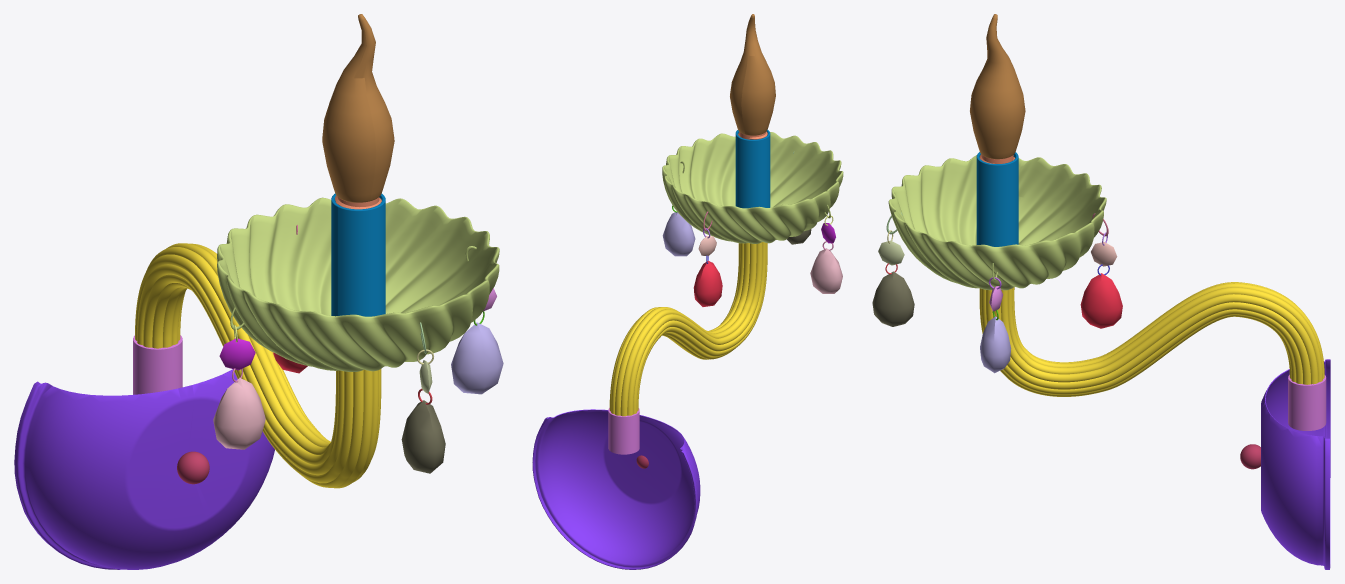
3 renders of one model, left to right at view 1: azimuth 30°, elevation 25°; view 2: azimuth 150°, elevation 25°; view 3: azimuth 270°, elevation 25°, orthographic. The views are drawn at different scales.
Visible parts, largest first — view 1: split_parent_28, split_parent_8, split_parent_2, split_parent_0, split_parent_13, Object_10.001, Object_10.003, Object_10, Object_7, Object_10.034, Object_10.023; view 2: split_parent_28, split_parent_8, split_parent_2, split_parent_0, split_parent_13, Object_7, Object_10.003, Object_10.001, Object_10.002; view 3: split_parent_8, split_parent_2, split_parent_28, split_parent_0, split_parent_13, Object_7, Object_10, Object_10.002, Object_10.001.
Part boxes in pixels (x1,y1,x2,y2): split_parent_28: (14,369,274,569); split_parent_8: (217,197,499,371); split_parent_2: (135,243,381,488); split_parent_0: (322,14,394,202); split_parent_13: (331,193,385,316); Object_10.001: (451,322,503,394); Object_10.003: (213,378,265,449); Object_10: (401,400,445,473); Object_7: (133,335,182,394); Object_10.034: (177,451,209,484); Object_10.023: (219,338,255,370); split_parent_28: (532,409,700,569); split_parent_8: (662,132,843,243); split_parent_2: (609,242,767,416); split_parent_0: (730,14,775,135); split_parent_13: (735,129,770,208); Object_7: (608,408,639,454); Object_10.003: (810,248,842,293); Object_10.001: (662,212,695,256); Object_10.002: (693,260,722,306); split_parent_8: (888,155,1106,290); split_parent_2: (979,282,1324,396); split_parent_28: (1261,359,1330,569); split_parent_0: (970,14,1025,159); split_parent_13: (976,152,1018,246); Object_7: (1288,375,1326,430); Object_10: (872,271,914,326); Object_10.002: (1080,273,1122,328); Object_10.001: (980,316,1011,373).
Size of the model in its own units: 0.4165 by 1 by 0.7618.
